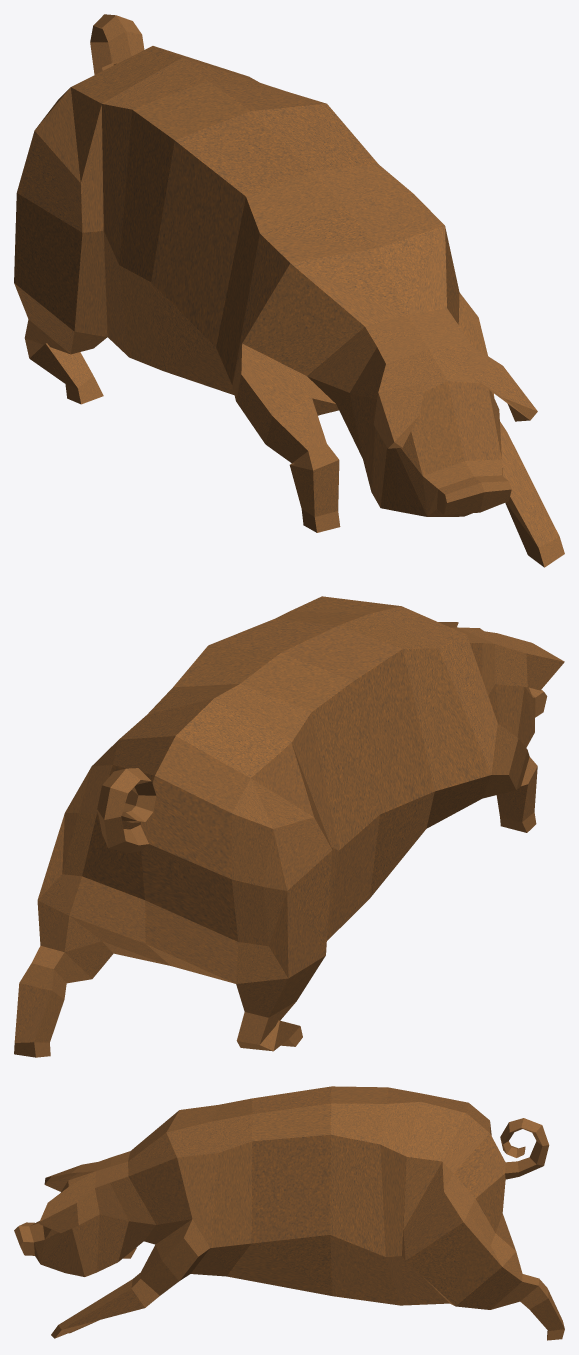
The model's file is Pig_000012.obj.
3 renders of one model, top to bottom at view 1: azimuth 30°, elevation 25°; view 2: azimuth 150°, elevation 25°; view 3: azimuth 270°, elevation 25°, orthographic. The views are drawn at different scales.
Parts seen in each view (by area): view 1: Pig_Cylinder; view 2: Pig_Cylinder; view 3: Pig_Cylinder.
Boxes of the visible parts, <box> form: Pig_Cylinder: <box>14,14,564,567</box>; Pig_Cylinder: <box>14,596,564,1057</box>; Pig_Cylinder: <box>14,1086,564,1340</box>.
Bounding box in the file's own units: 3.4 × 4.26 × 9.91.
1 material, 1 textured.
